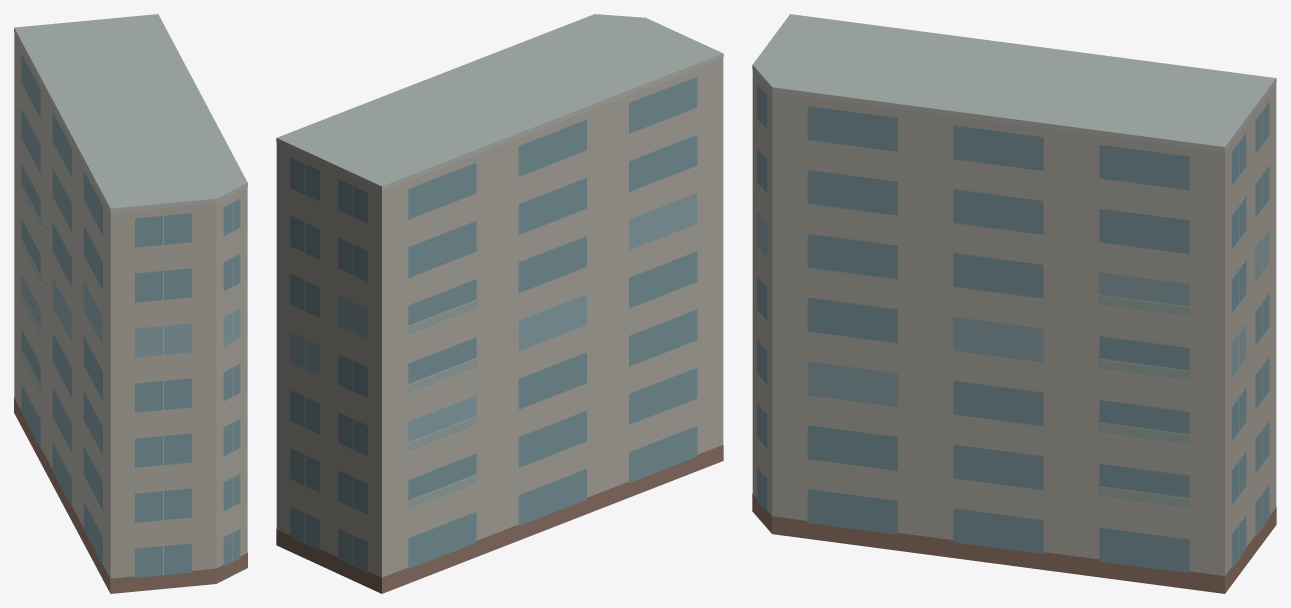
File: survey-upis-32528332.glb
The picture shows the model from 3 angles, left to right: view 1: azimuth 30°, elevation 25°; view 2: azimuth 150°, elevation 25°; view 3: azimuth 270°, elevation 25°; orthographic projection. The views are drawn at different scales.
Visible parts, largest first — view 1: survey-upis-32528332.tmp; view 2: survey-upis-32528332.tmp; view 3: survey-upis-32528332.tmp.
Boxes of the visible parts, x1,y1,x2,y2 form: survey-upis-32528332.tmp: (14,14,247,593); survey-upis-32528332.tmp: (276,14,723,593); survey-upis-32528332.tmp: (752,14,1276,593).
Size of the model in its own units: 13.87 by 21.7 by 23.07.
